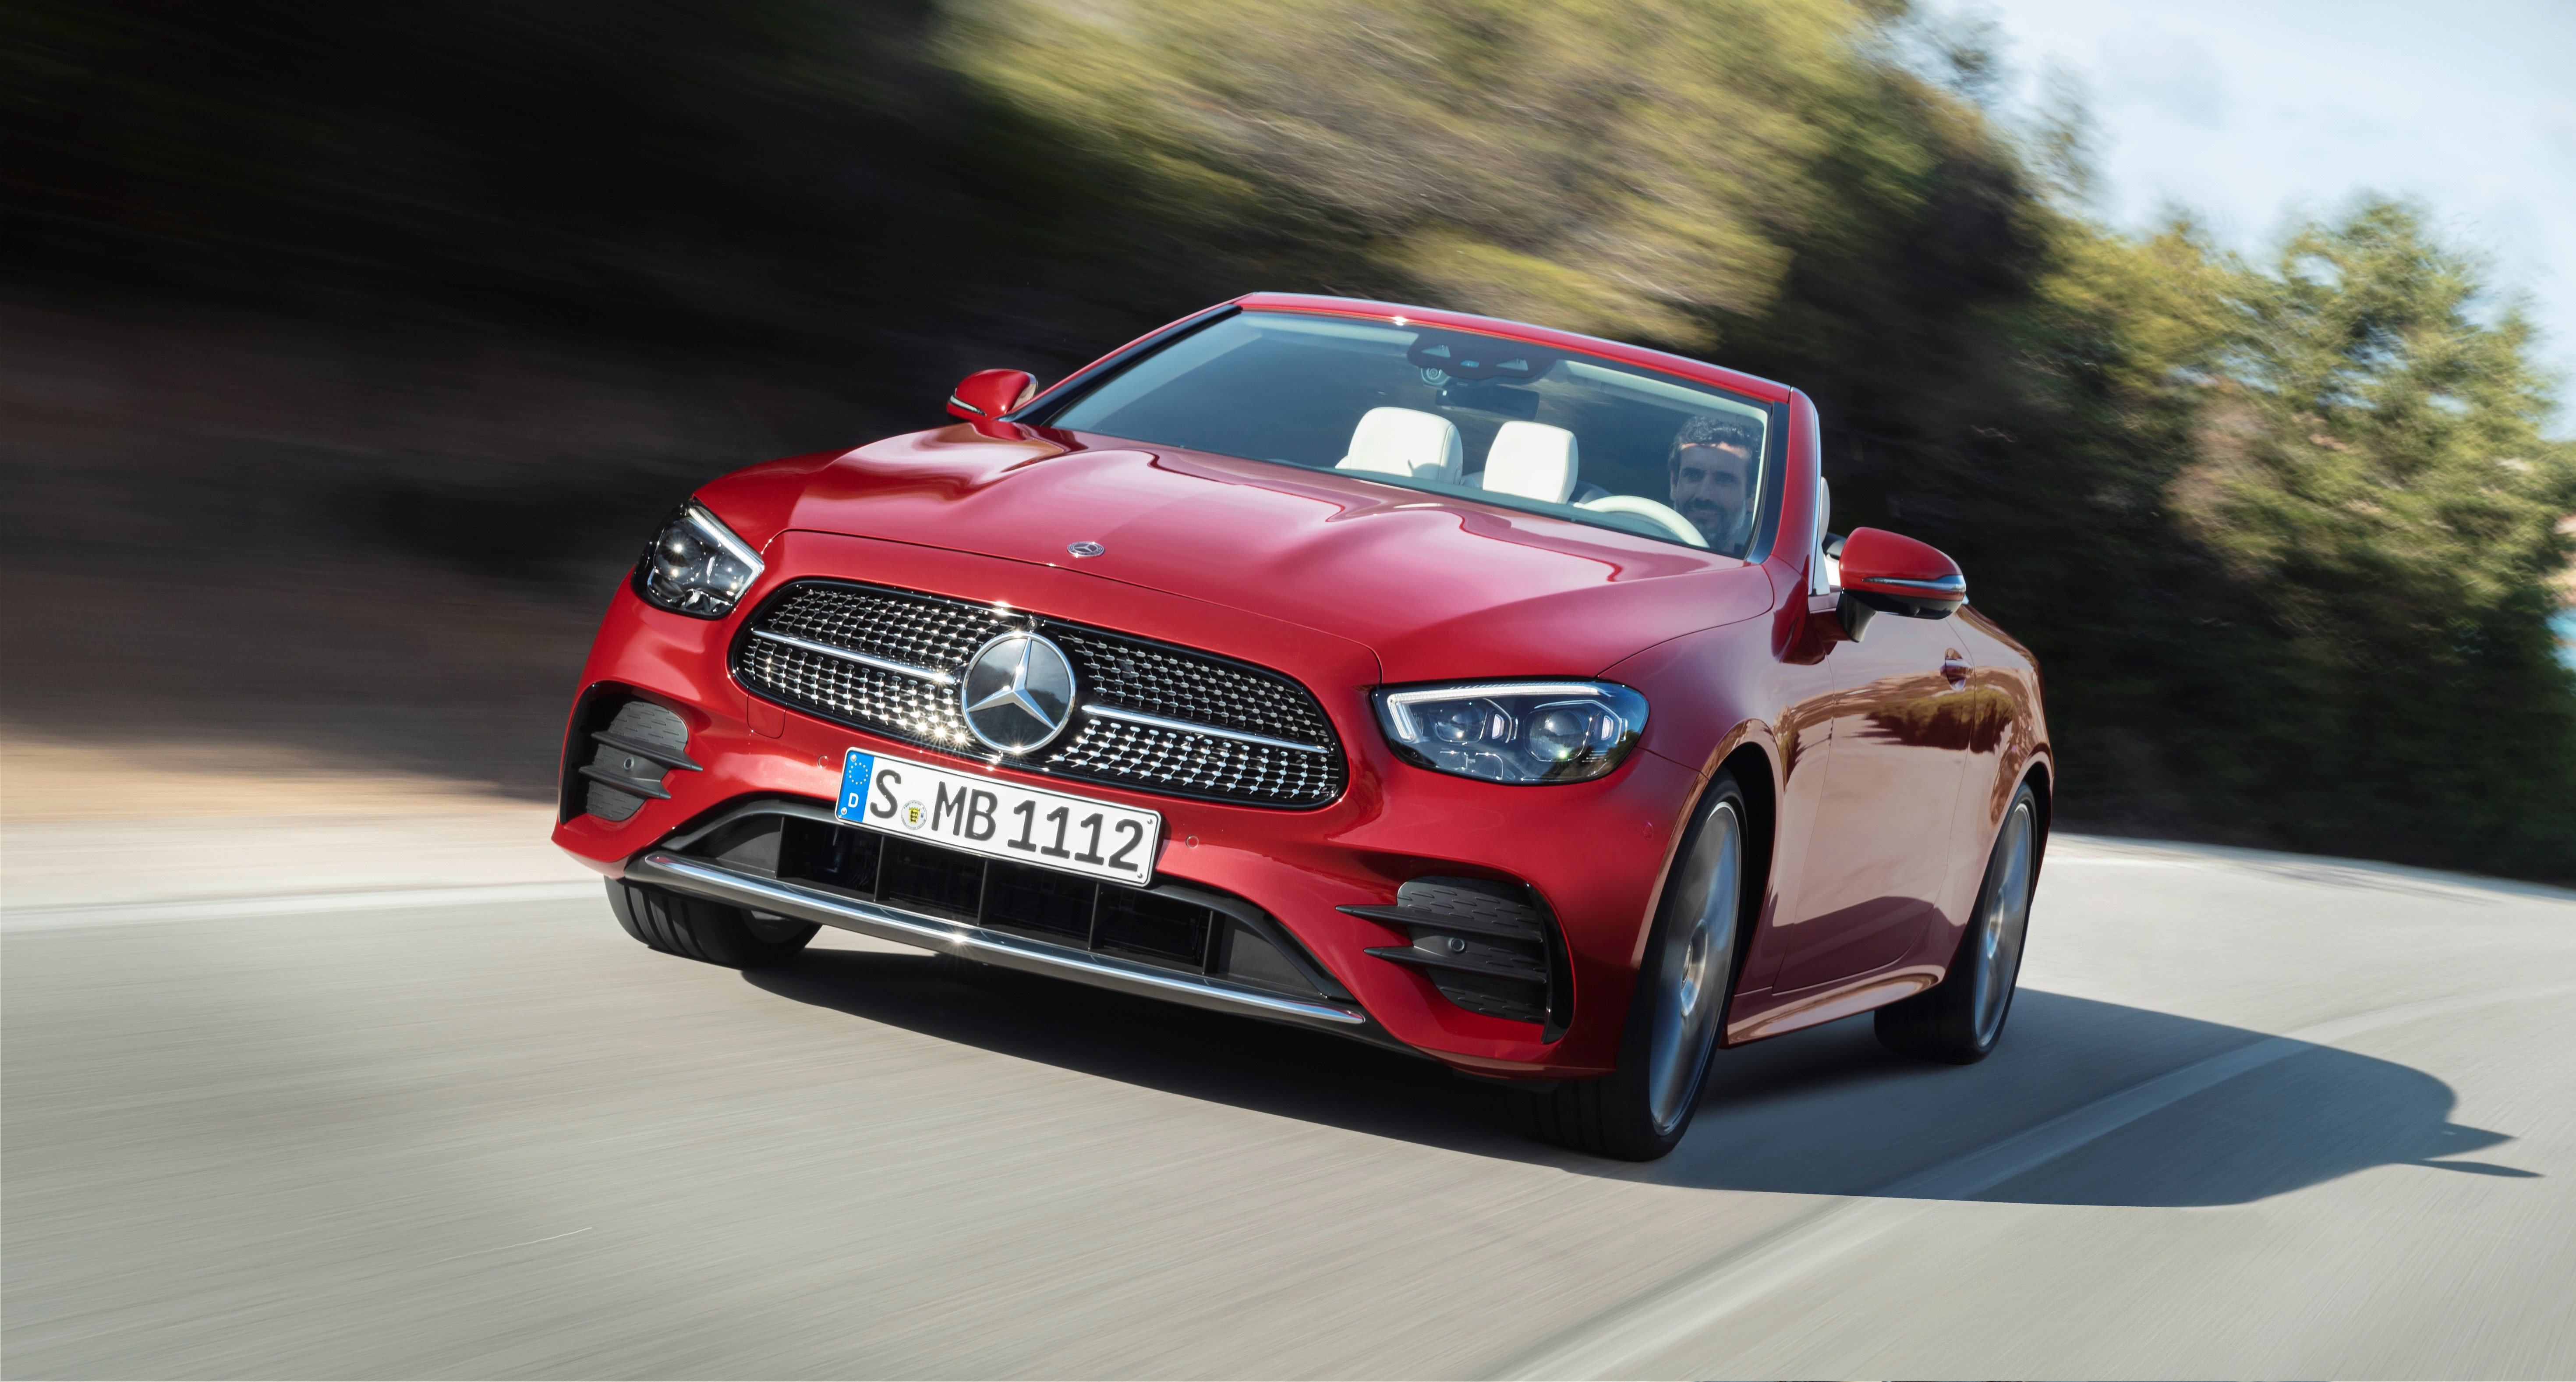car: (549, 290, 2061, 1160)
